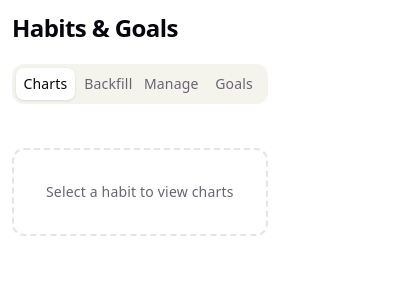
HabitsPage › switches to Goals tab on click
The image size is (397, 287).
Click the tab "Goals" at (234, 84), box [205,68,264,100]
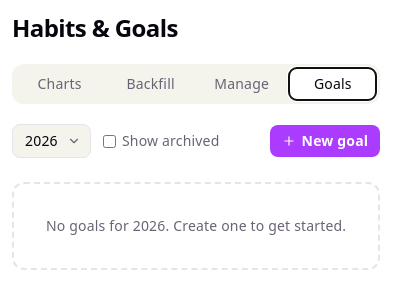
Check: the button "New goal" is shown, box [270,125,380,157]
